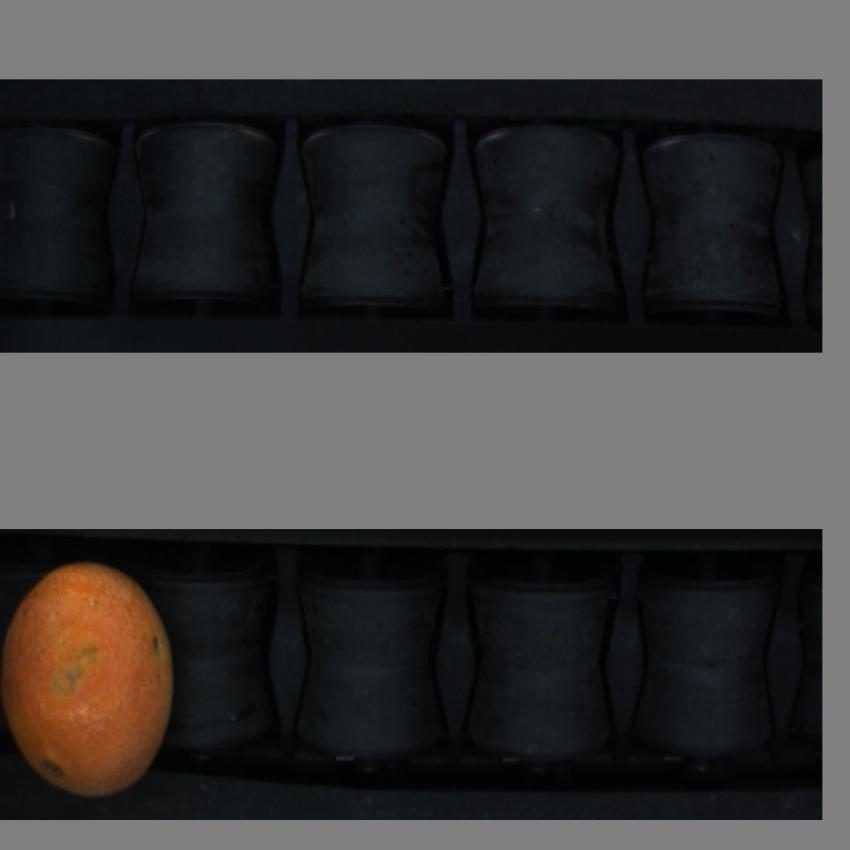Mal estado: (2, 560, 181, 804)
